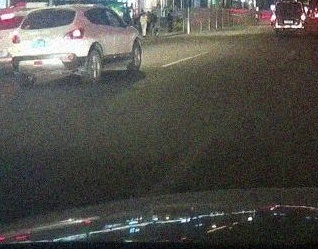L_light: (11, 34, 20, 44), (274, 15, 276, 20)
R_light: (69, 27, 83, 39), (301, 15, 305, 20)
T_light: (44, 9, 54, 11), (287, 3, 292, 4)
night-no: (274, 1, 305, 36)
night-right: (10, 6, 84, 89)
